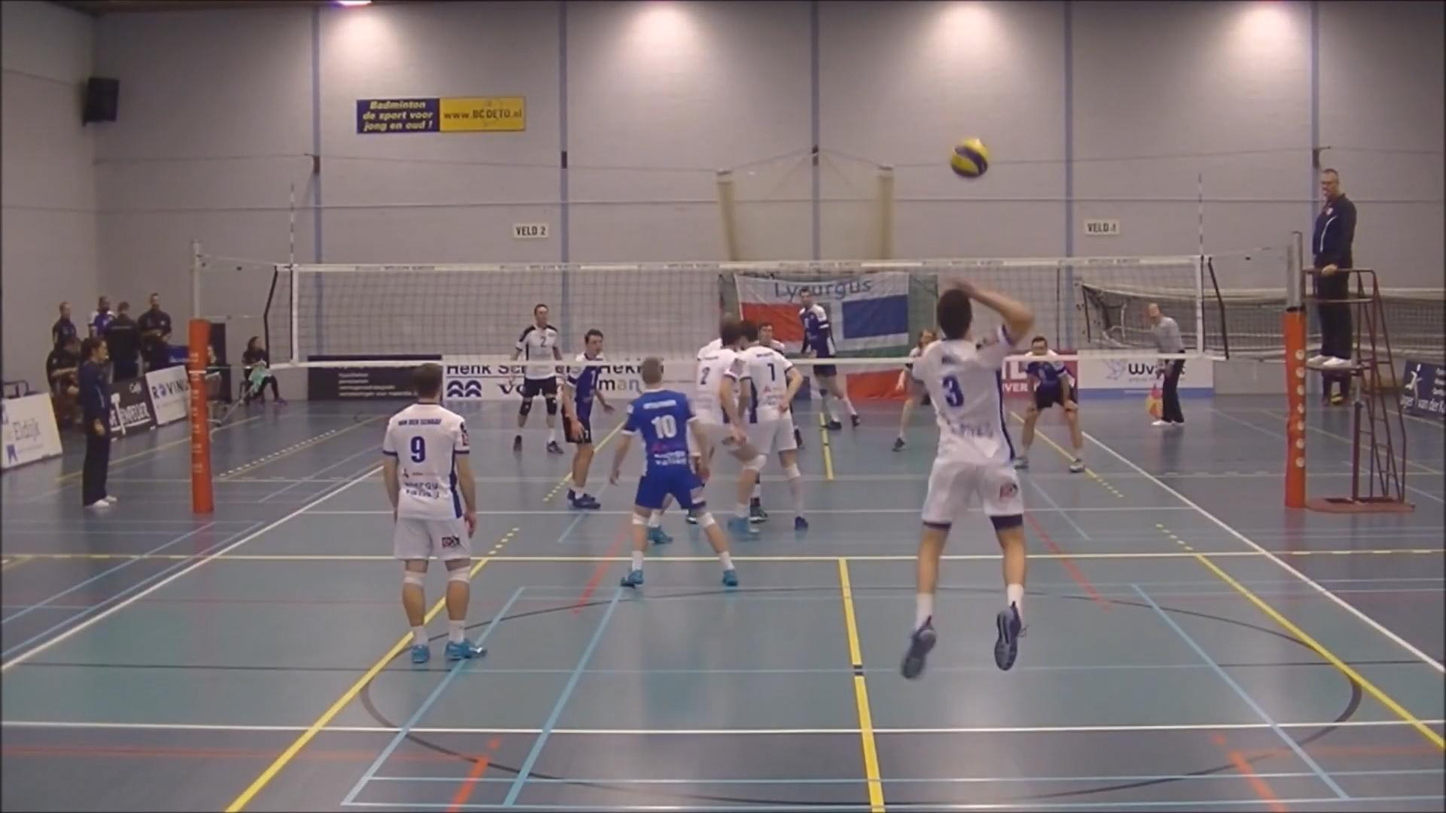Player: (383, 363, 484, 663), (609, 358, 737, 587), (740, 320, 807, 531), (694, 318, 766, 472), (1014, 336, 1084, 472), (561, 328, 613, 509), (512, 303, 563, 454), (892, 328, 936, 452), (813, 364, 859, 430), (759, 321, 786, 353), (749, 476, 767, 522)
Serve: (896, 263, 1054, 683)
ball: (953, 140, 988, 178)
